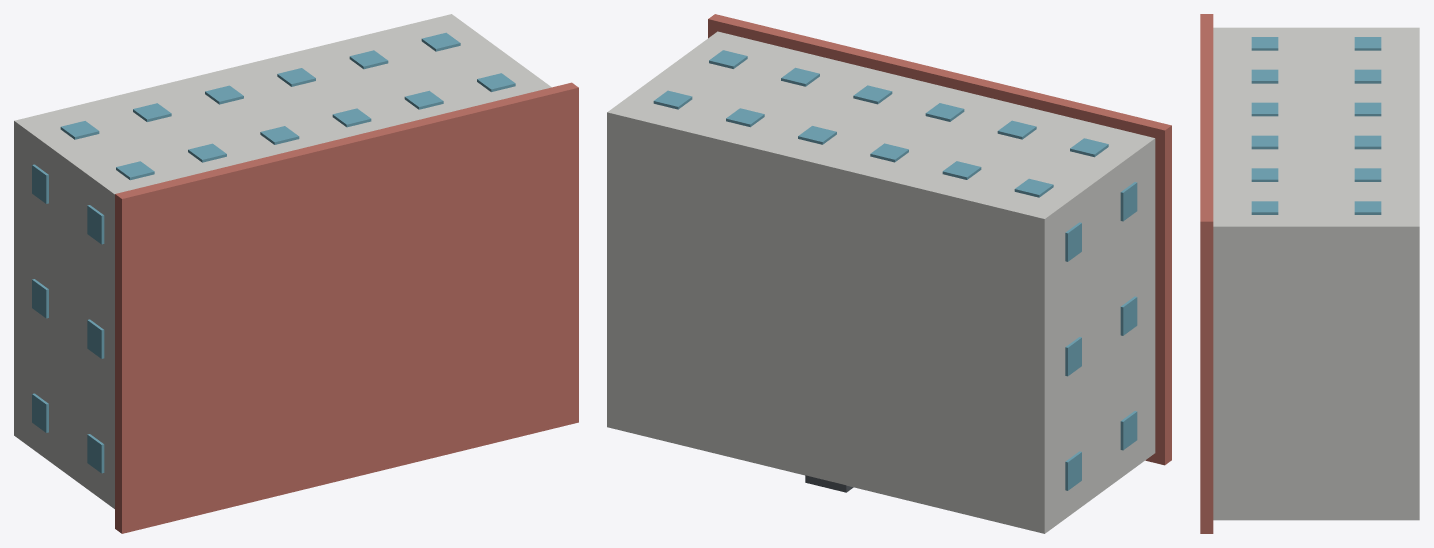
Rendered from shop_supermarket.glb.
The picture shows the model from 3 angles, left to right: view 1: azimuth 30°, elevation 25°; view 2: azimuth 150°, elevation 25°; view 3: azimuth 270°, elevation 25°; orthographic projection. The views are drawn at different scales.
Parts seen in each view (by area): view 1: g1, g0; view 2: g0, g1; view 3: g0, g1, g5, g20, g7, g9, g22, g24, g3, g11, g13, g18 (+2 smaller).
Part boxes in pixels (<box>): g1: <box>115,82,578,533</box>; g0: <box>14,14,551,508</box>; g0: <box>607,31,1155,533</box>; g1: <box>708,14,1171,465</box>; g0: <box>1213,27,1419,520</box>; g1: <box>1200,14,1213,533</box>; g5: <box>1354,69,1381,83</box>; g20: <box>1251,69,1278,83</box>; g7: <box>1354,102,1381,116</box>; g9: <box>1354,135,1381,149</box>; g22: <box>1251,102,1278,116</box>; g24: <box>1251,135,1278,149</box>; g3: <box>1354,37,1381,50</box>; g11: <box>1354,168,1381,181</box>; g13: <box>1354,201,1381,214</box>; g18: <box>1251,37,1278,50</box>.
Size of the model in its own units: 16.7 by 11.7 by 7.44.
